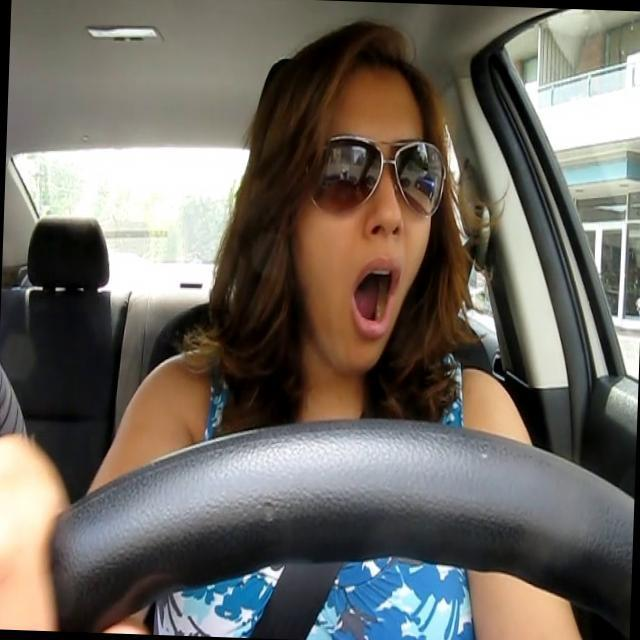open-mouth: (352, 258, 396, 336)
